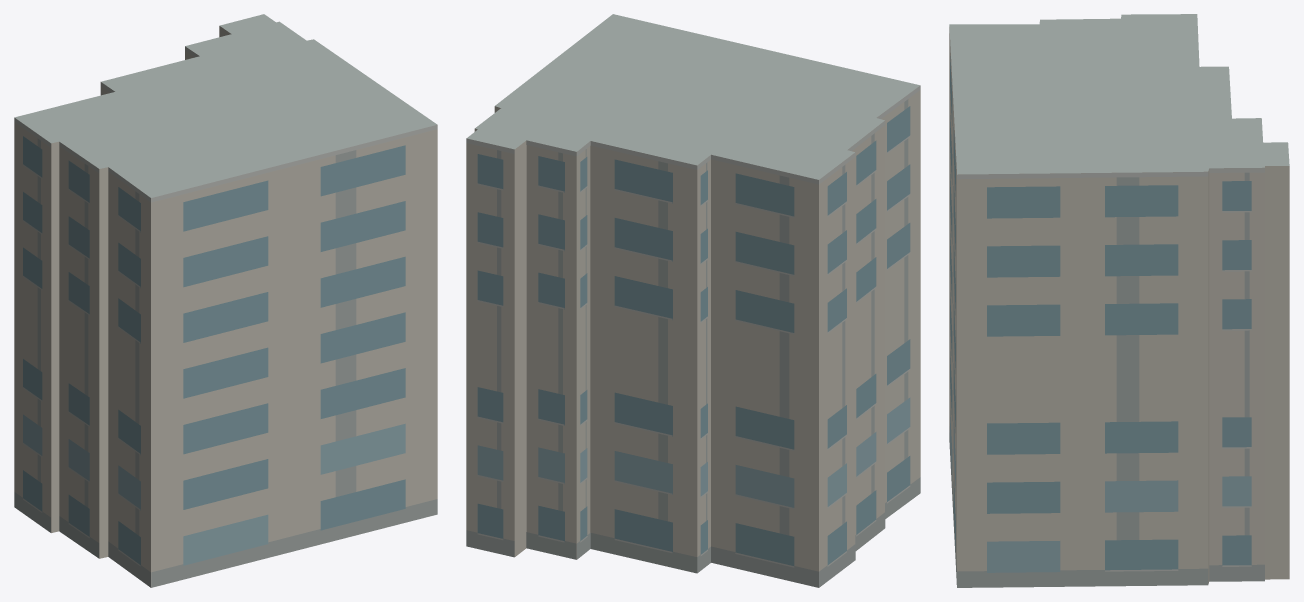
The model's file is survey-upis-32577728.glb.
The picture shows the model from 3 angles, left to right: view 1: azimuth 30°, elevation 25°; view 2: azimuth 150°, elevation 25°; view 3: azimuth 270°, elevation 25°; orthographic projection. The views are drawn at different scales.
Visible parts, largest first — view 1: survey-upis-32577728.tmp; view 2: survey-upis-32577728.tmp; view 3: survey-upis-32577728.tmp.
Boxes of the visible parts, x1=… form: survey-upis-32577728.tmp: x1=14, y1=14, x2=437, y2=587; survey-upis-32577728.tmp: x1=466, y1=14, x2=920, y2=587; survey-upis-32577728.tmp: x1=949, y1=14, x2=1289, y2=587.
Bounding box in the file's own units: 17.78 × 21.35 × 15.94.
